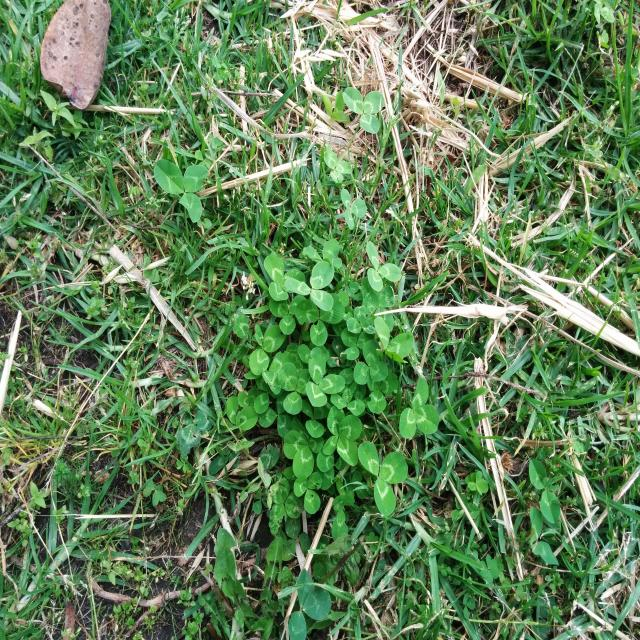Four Leaf Clover: (322, 405, 362, 466)
